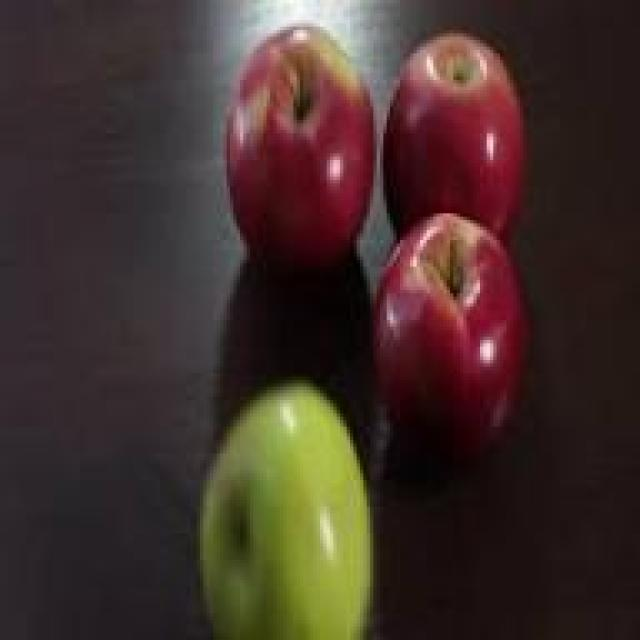apple: (203, 380, 370, 637), (224, 27, 384, 280), (380, 217, 527, 473), (387, 23, 533, 264)
